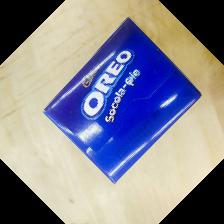Oreo: (42, 17, 202, 186)
